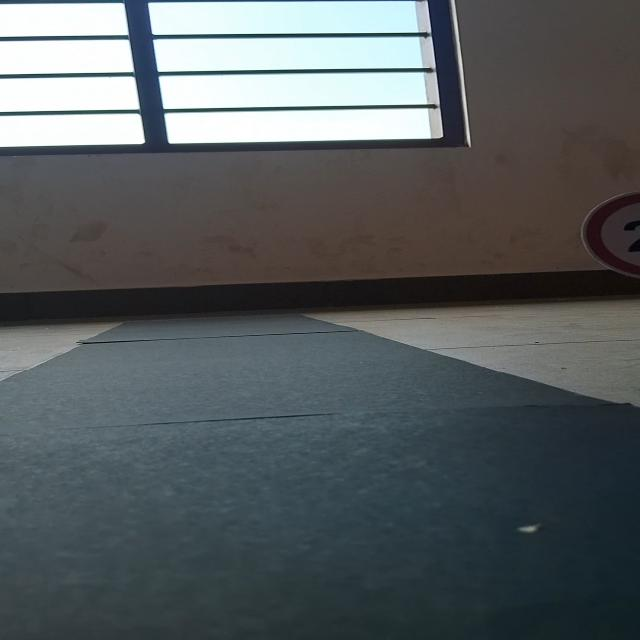Speed20: (575, 184, 640, 292)
